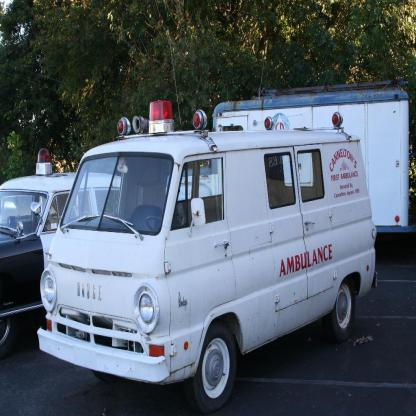Ambulance: (37, 26, 377, 414)
Car: (0, 148, 122, 360)
